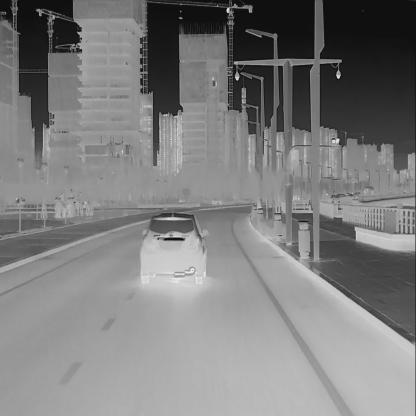car: (139, 212, 209, 283)
